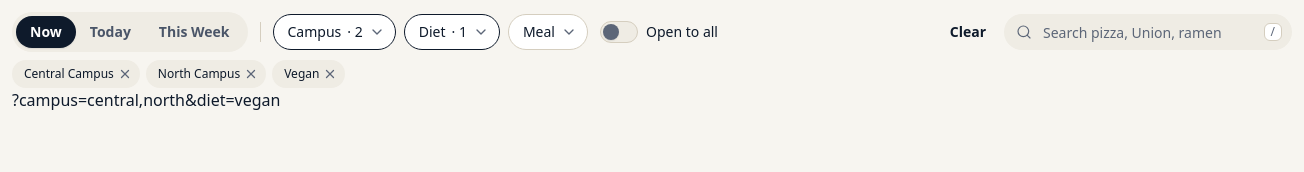
Test: FilterBar › removes one filter from its chip
Click the button with aria-label "Remove filter: North Campus" at (206, 74), box [146,60,266,88]
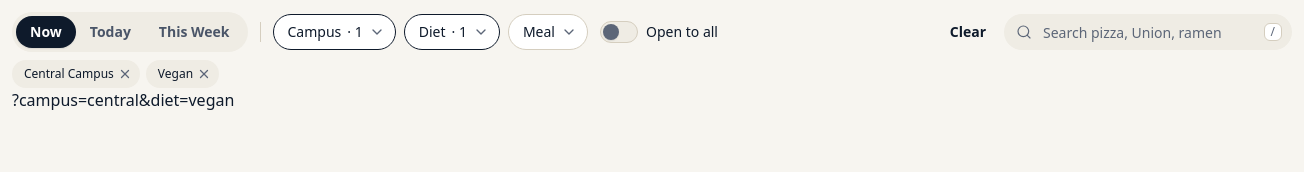
Expected: the text with test id "search" reads "?campus=central&diet=vegan", [12,89,234,111]
